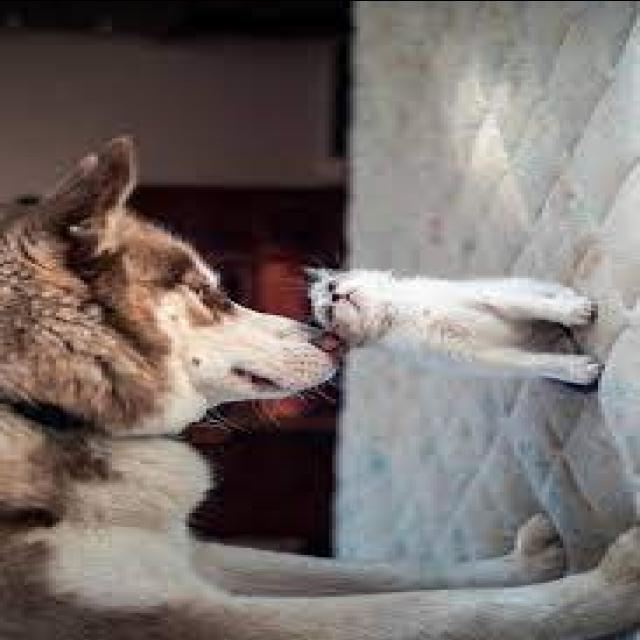cat: (304, 262, 616, 388)
dog: (0, 132, 323, 638)
